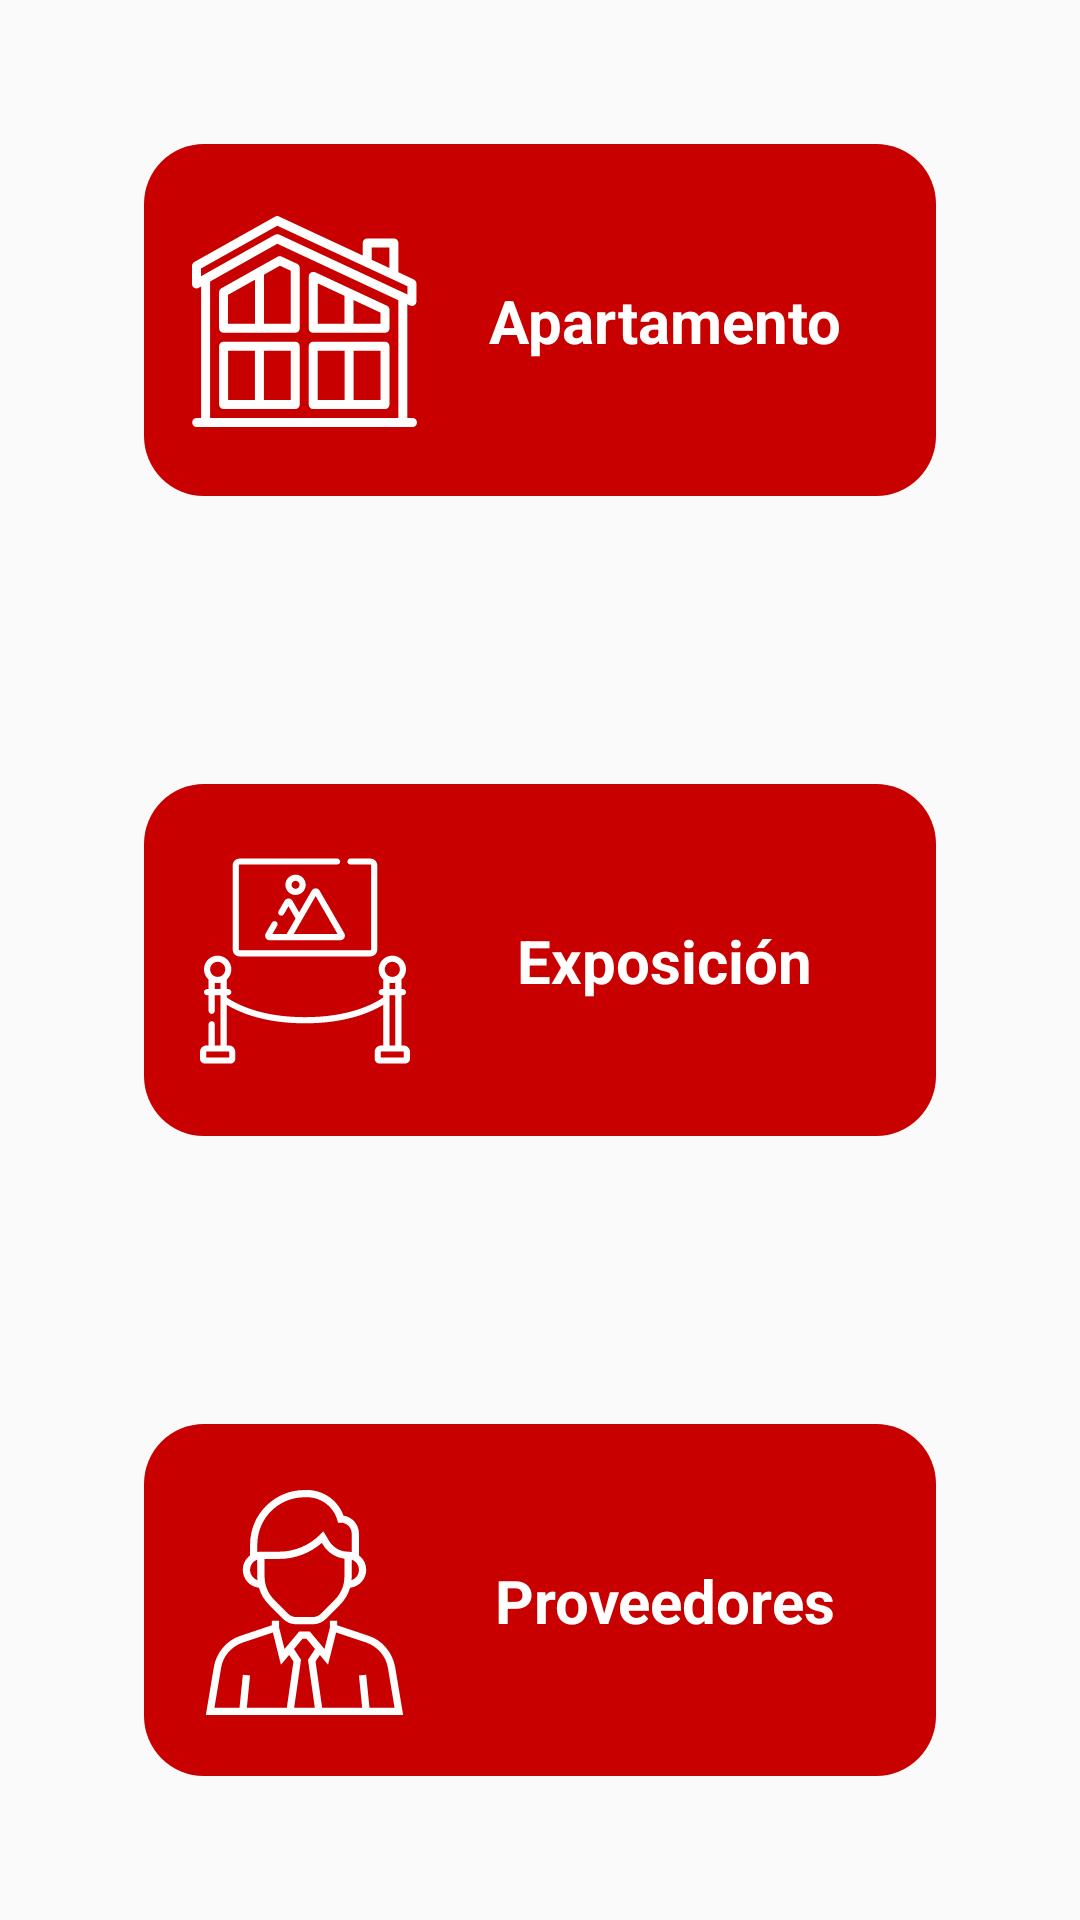

Icon click points for this 1080px×1920px phone screenshot, format point (x, y):
apartment: point (304, 321)
